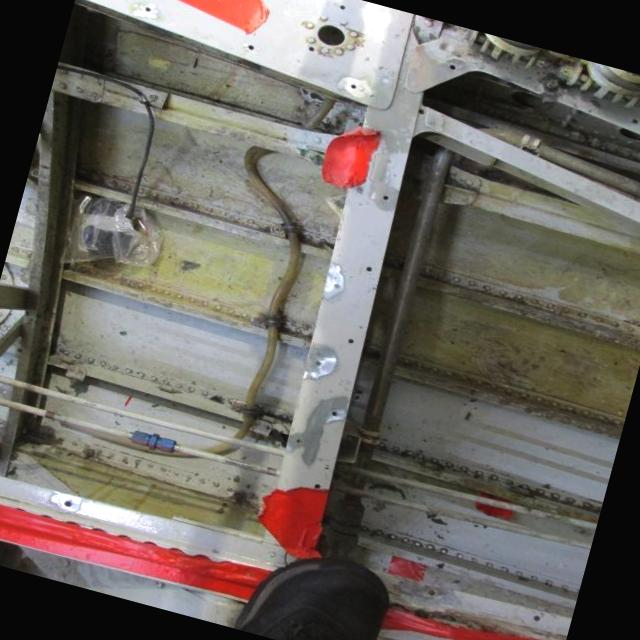Missing Fastener: (623, 111, 640, 127), (528, 610, 544, 626), (308, 481, 326, 494), (414, 103, 428, 119), (57, 498, 74, 511), (290, 434, 306, 447), (361, 262, 375, 276), (240, 40, 256, 52), (426, 586, 440, 599), (140, 2, 154, 15), (378, 193, 393, 205), (445, 60, 460, 72), (344, 337, 358, 349), (304, 44, 318, 55), (335, 2, 350, 12), (328, 408, 341, 418), (330, 280, 342, 290), (312, 358, 322, 368), (347, 80, 358, 89)
